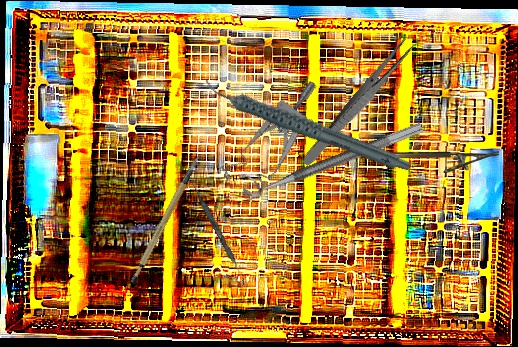Dressing Forceps: (300, 36, 416, 171)
Fixation Ring: (237, 107, 424, 201)
Handpiece: (201, 37, 414, 211)
Needle Holder: (392, 151, 499, 173)
Scalpel Handle: (114, 155, 219, 286)
Spatula Surgical: (187, 179, 250, 286)
Speculum: (205, 79, 351, 208)
